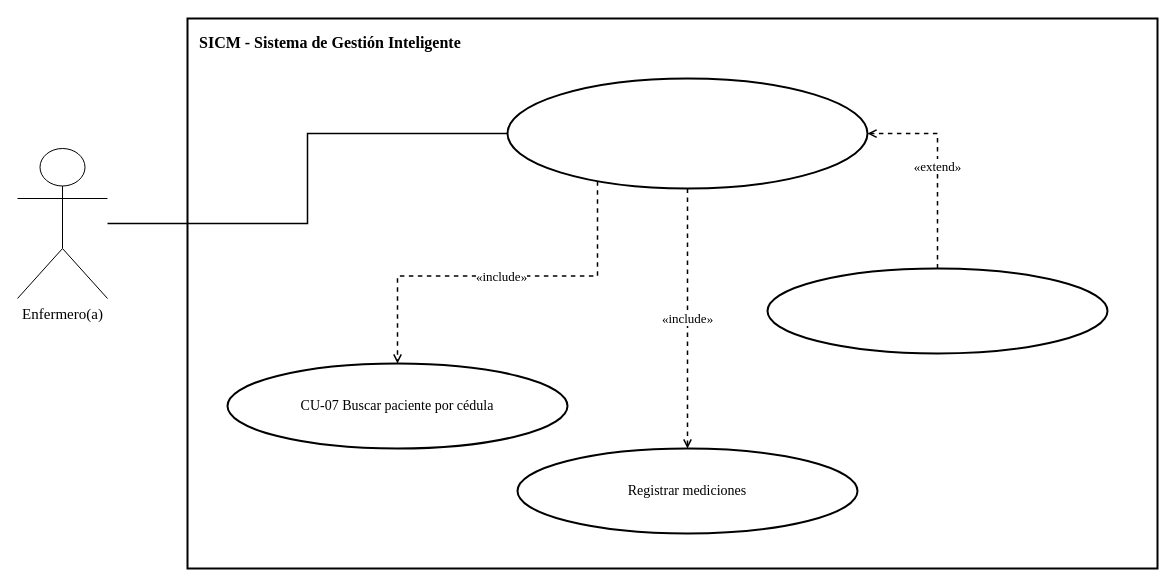
The diagram is 1176 pixels wide and 586 high, and some of its shapes have lost their labels. The box of each missing label's shape, as (x1, y1, x2, y2) in pixels:
Confirmar valor atípico: (766, 267, 1108, 354)
Registrar signos vitales: (506, 77, 868, 189)
